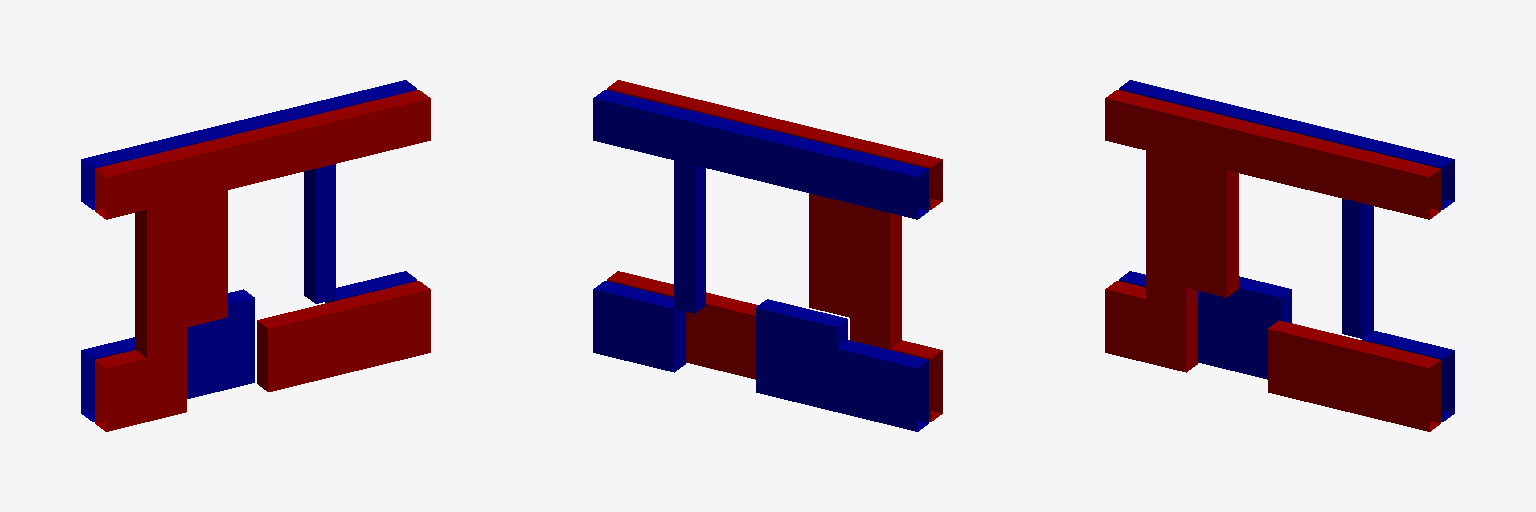
The model's file is Colby6NoMat.obj.
3 renders of one model, left to right at view 1: azimuth 30°, elevation 25°; view 2: azimuth 150°, elevation 25°; view 3: azimuth 330°, elevation 25°, orthographic.
Parts seen in each view (by area): view 1: Plane.002, Plane.001_Plane.001; view 2: Plane.001_Plane.001, Plane.002; view 3: Plane.002, Plane.001_Plane.001.
Part boxes in pixels (left/top/right/bottom): Plane.002: left=95, top=90, right=430, bottom=431; Plane.001_Plane.001: left=81, top=80, right=416, bottom=421; Plane.001_Plane.001: left=593, top=90, right=928, bottom=431; Plane.002: left=607, top=80, right=942, bottom=421; Plane.002: left=1105, top=90, right=1440, bottom=431; Plane.001_Plane.001: left=1119, top=80, right=1454, bottom=421.
Size of the model in its own units: 16 by 12 by 2.13.